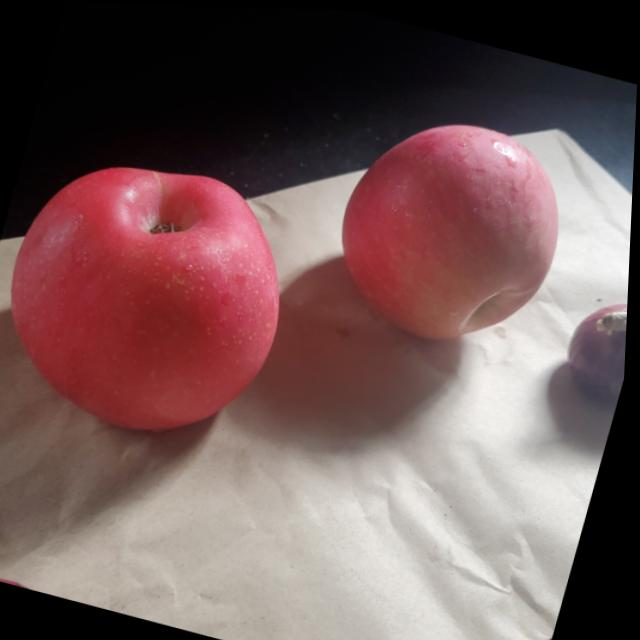apple: (0, 129, 314, 453), (314, 89, 588, 358)
onion: (557, 287, 630, 399)
